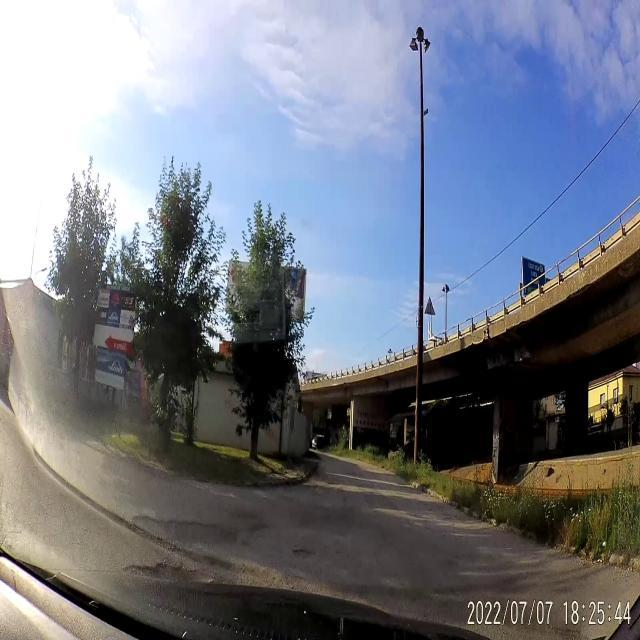Pothole: (130, 511, 237, 552), (292, 544, 312, 564)
